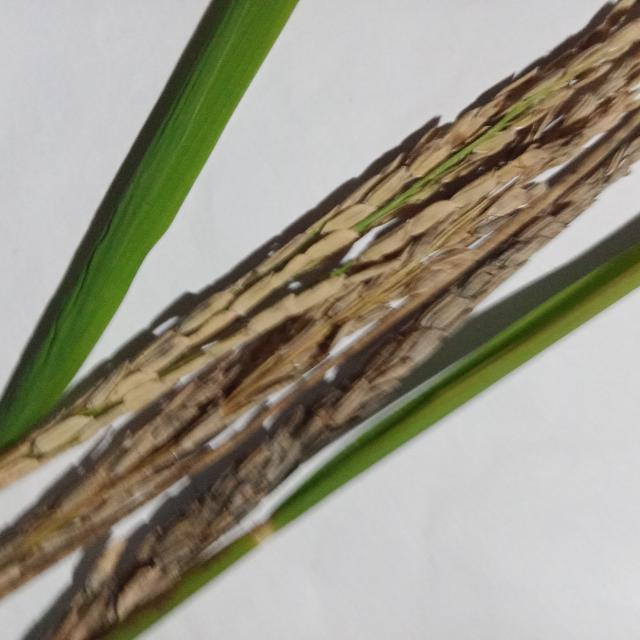Neck_Blast: (0, 0, 640, 640)
